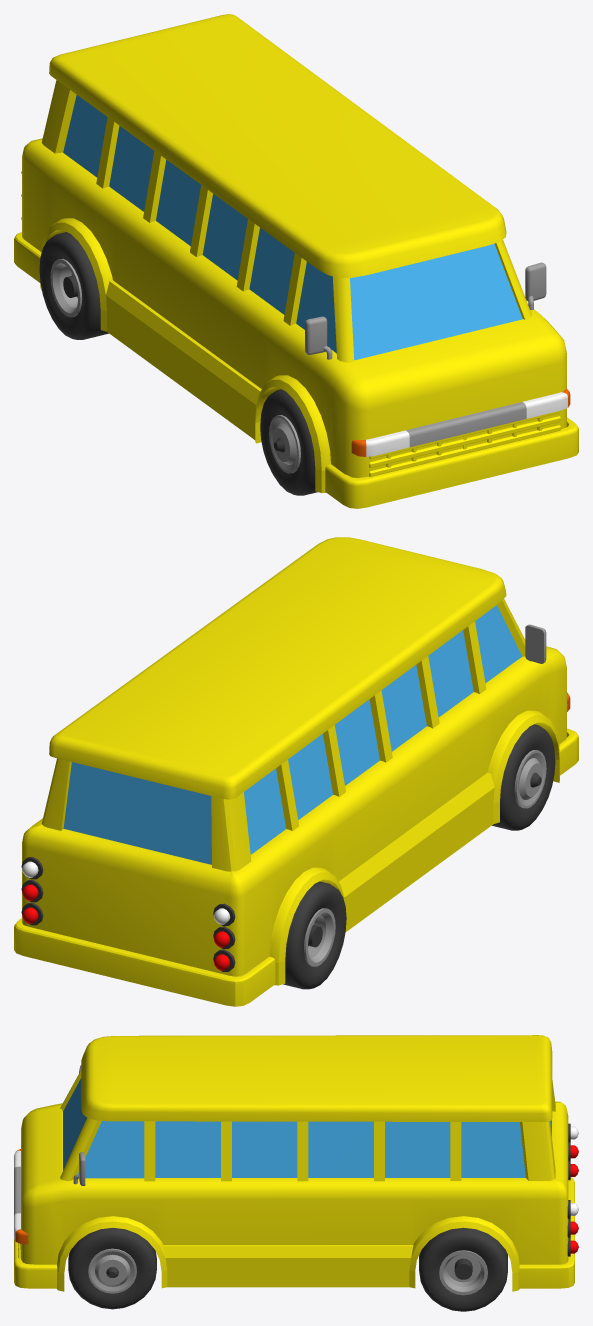
The model's file is Cake_ThemeToys_M.FBX.
3 views of the same model, one above another, from view 1: azimuth 30°, elevation 25°; view 2: azimuth 150°, elevation 25°; view 3: azimuth 270°, elevation 25° (orthographic). The views are drawn at different scales.
Visible parts, largest first — view 1: Cake_ThemeToys_M; view 2: Cake_ThemeToys_M; view 3: Cake_ThemeToys_M.
Part boxes in pixels (<box>): Cake_ThemeToys_M: <box>14,14,578,508</box>; Cake_ThemeToys_M: <box>14,537,578,1006</box>; Cake_ThemeToys_M: <box>14,1035,578,1311</box>.
Size of the model in its own units: 36187 by 30844 by 82145.
